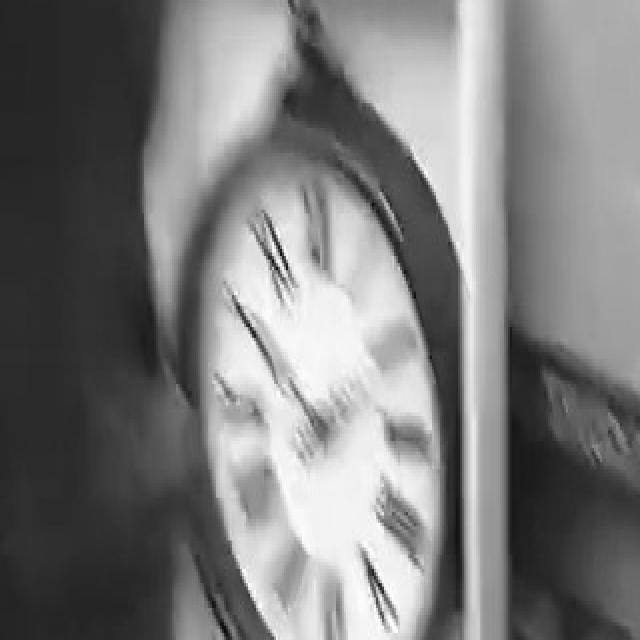wallclock: (372, 0, 640, 491), (188, 131, 444, 640), (270, 0, 416, 174), (224, 289, 300, 425), (249, 200, 299, 304), (298, 177, 332, 275), (213, 371, 257, 433)
